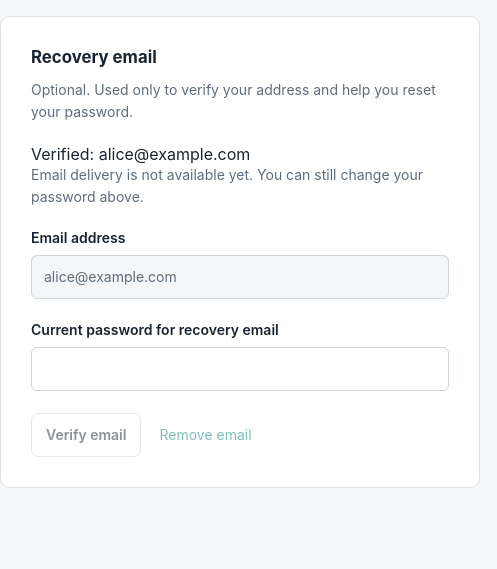
it: email controls require password and respect configured delivery
The image size is (497, 569).
Expected: the text "Verified: alice@example.com" is shown, [31, 144, 250, 164]
Expected: the button "Verify email" is disabled, [31, 413, 141, 457]
In the password field labelled "Current password for recovery email": (240, 369) [31, 347, 449, 391], type "current-password"
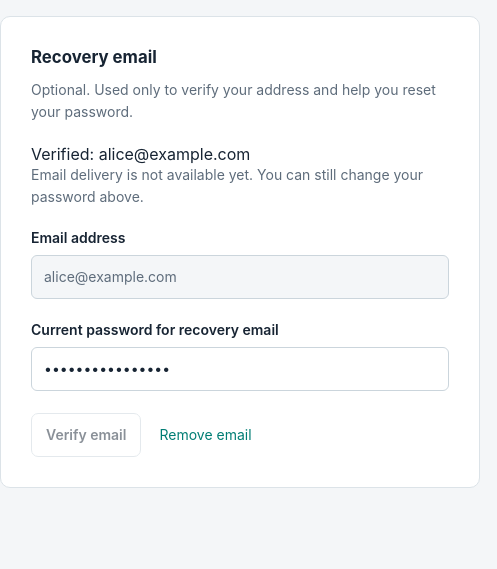
Click the button "Remove email": (205, 435) [151, 416, 260, 453]
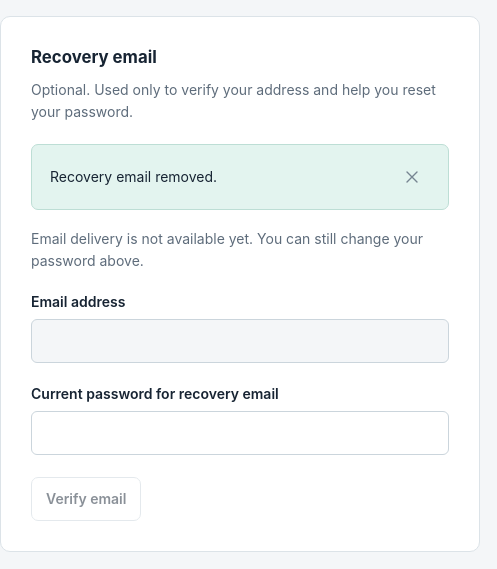
Expected: the text "Recovery email removed." is shown, [50, 168, 217, 185]
